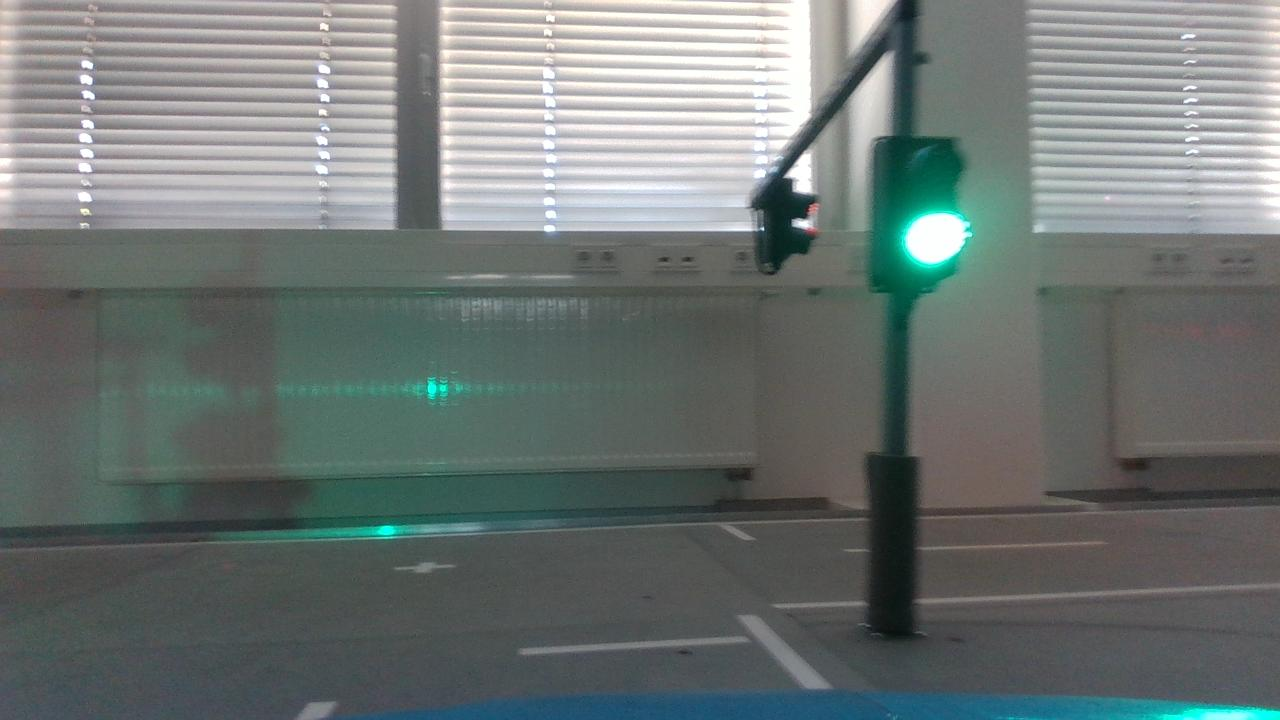traffic_light_green: (861, 118, 976, 311)
